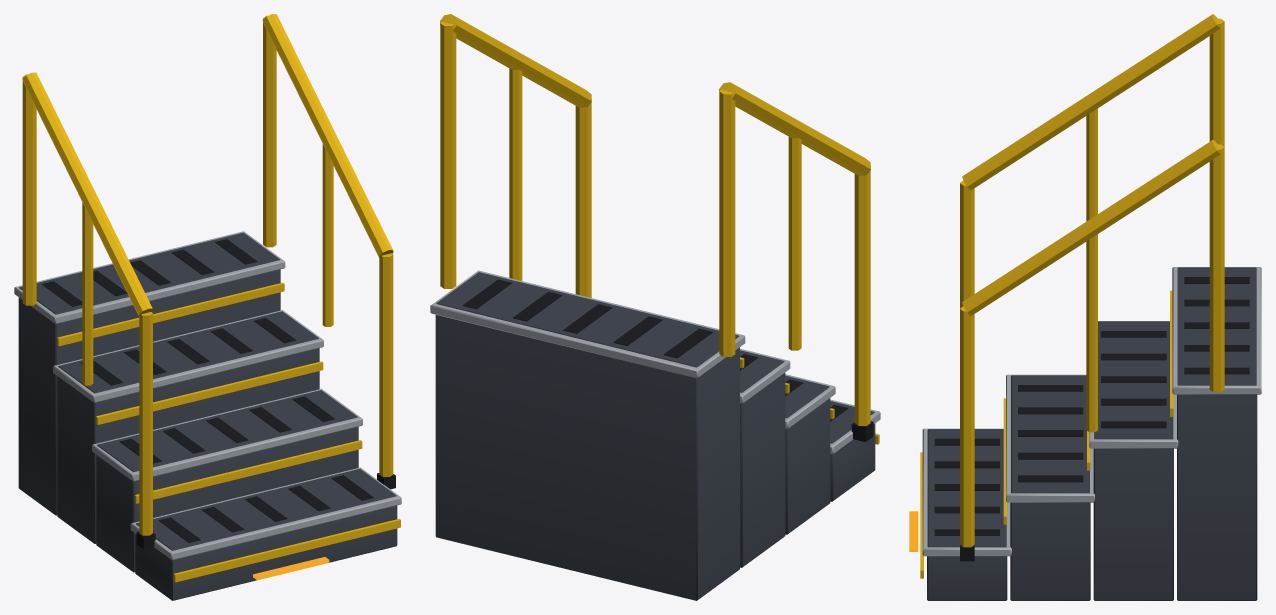
Rendered from railing_service_stair_4_step.glb.
3 renders of one model, left to right at view 1: azimuth 30°, elevation 25°; view 2: azimuth 150°, elevation 25°; view 3: azimuth 270°, elevation 25°, orthographic. The views are drawn at different scales.
Parts seen in each view (by area): view 1: railing_service_stair_4_step; view 2: railing_service_stair_4_step; view 3: railing_service_stair_4_step.
Boxes of the visible parts, bbox=[...] form: railing_service_stair_4_step: bbox=[14, 14, 401, 600]; railing_service_stair_4_step: bbox=[430, 14, 880, 600]; railing_service_stair_4_step: bbox=[909, 14, 1261, 600].
Bounding box in the file's own units: 1.06 × 1.72 × 1.19.
